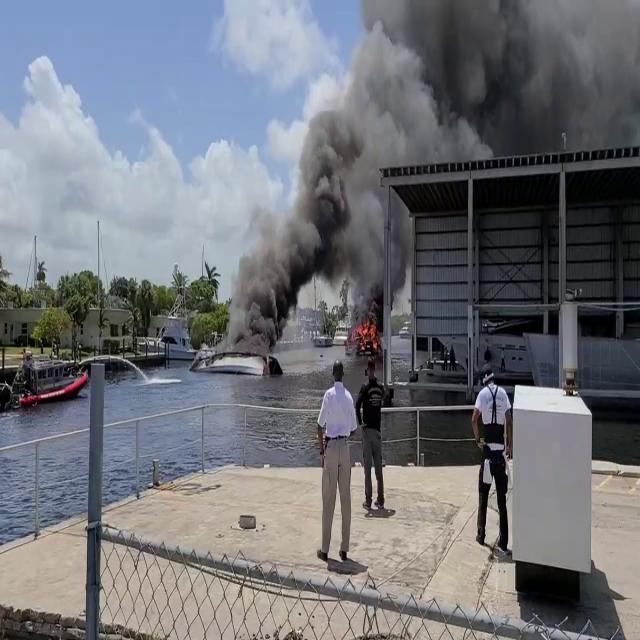Smoke: (226, 7, 414, 345), (358, 1, 640, 172)
